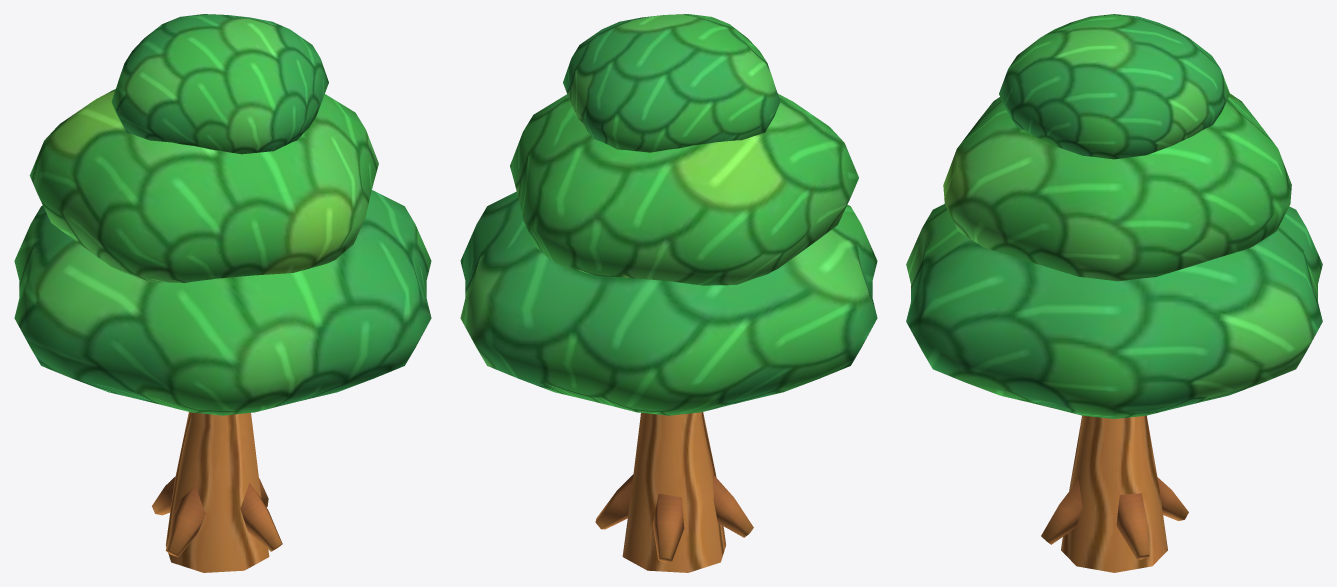
The model's file is jungle_tree_0.glb.
The picture shows the model from 3 angles, left to right: view 1: azimuth 30°, elevation 25°; view 2: azimuth 150°, elevation 25°; view 3: azimuth 270°, elevation 25°; orthographic projection.
Parts seen in each view (by area): view 1: jungle_tree_0; view 2: jungle_tree_0; view 3: jungle_tree_0.
Part boxes in pixels (<box>): jungle_tree_0: <box>14,14,431,572</box>; jungle_tree_0: <box>460,14,877,572</box>; jungle_tree_0: <box>906,14,1322,572</box>.
Size of the model in its own units: 7.31 by 9.25 by 6.68.
2 materials, 2 textured.
